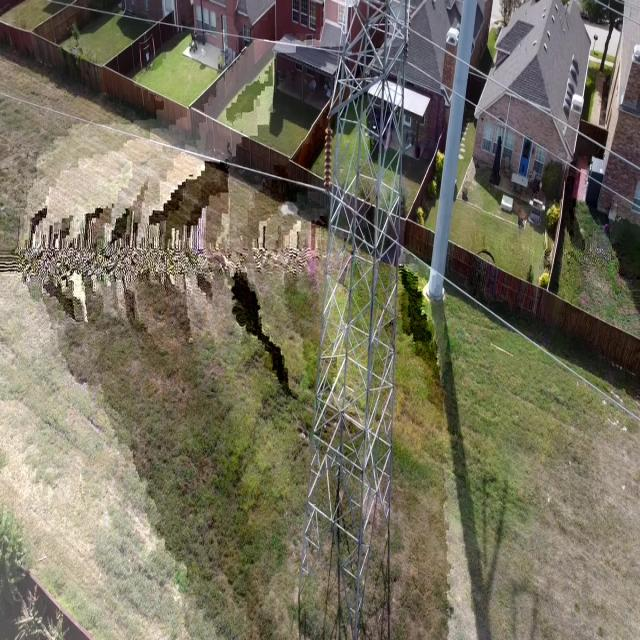杆塔: (301, 0, 401, 624)
正常绝缘子: (318, 120, 338, 209)
